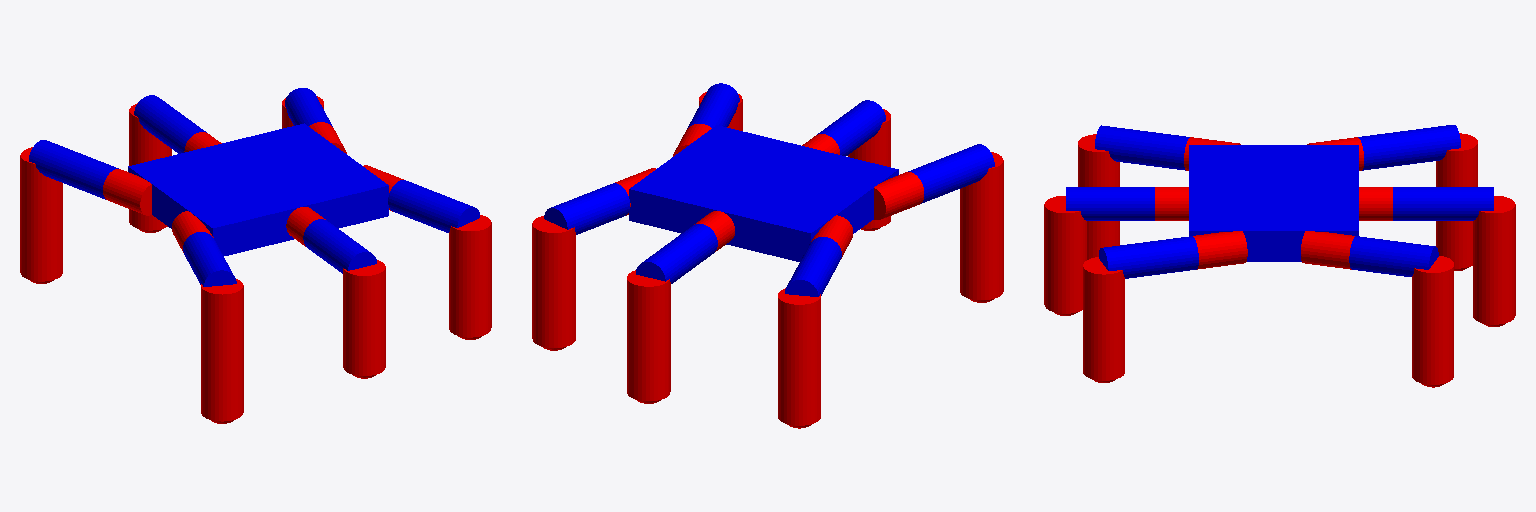
--- What the picture shows (computed from the rendered views, not written in the file) ---
The picture shows the robot from 3 angles, left to right: view 1: azimuth 30°, elevation 25°; view 2: azimuth 150°, elevation 25°; view 3: azimuth 270°, elevation 25°; orthographic projection.
Robot: pexod — 19 links, 18 joints (18 revolute); root link base_link; default pose: all joints at 0.
Visible links, largest first — view 1: base_link, leg_5_3, leg_3_3, leg_0_3, leg_4_3, leg_3_2, leg_0_2, leg_4_2, leg_1_2, leg_5_2, leg_1_3, leg_0_1 (+3 smaller); view 2: base_link, leg_0_3, leg_5_3, leg_2_3, leg_1_3, leg_1_2, leg_5_2, leg_2_2, leg_0_2, leg_4_2, leg_5_1, leg_3_2 (+3 smaller); view 3: base_link, leg_1_3, leg_2_3, leg_3_3, leg_4_3, leg_0_3, leg_1_2, leg_0_2, leg_3_2, leg_5_2, leg_4_2, leg_2_2 (+5 smaller).
Link boxes in pixels (bbox=[...]): base_link: bbox=[128, 123, 388, 255]; leg_5_3: bbox=[201, 279, 243, 423]; leg_3_3: bbox=[449, 215, 491, 339]; leg_0_3: bbox=[20, 147, 62, 283]; leg_4_3: bbox=[343, 260, 385, 378]; leg_3_2: bbox=[388, 180, 479, 232]; leg_0_2: bbox=[29, 140, 118, 199]; leg_4_2: bbox=[303, 219, 376, 273]; leg_1_2: bbox=[134, 95, 206, 153]; leg_5_2: bbox=[183, 232, 236, 286]; leg_1_3: bbox=[129, 103, 171, 232]; leg_0_1: bbox=[103, 169, 151, 215]; base_link: bbox=[629, 125, 898, 261]; leg_0_3: bbox=[778, 288, 820, 428]; leg_5_3: bbox=[960, 152, 1003, 302]; leg_2_3: bbox=[532, 216, 575, 350]; leg_1_3: bbox=[627, 270, 670, 403]; leg_1_2: bbox=[636, 224, 717, 283]; leg_5_2: bbox=[908, 144, 994, 203]; leg_2_2: bbox=[544, 183, 629, 234]; leg_0_2: bbox=[785, 237, 841, 296]; leg_4_2: bbox=[817, 100, 885, 155]; leg_5_1: bbox=[874, 172, 923, 219]; leg_3_2: bbox=[687, 83, 739, 128]; base_link: bbox=[1189, 145, 1358, 261]; leg_1_3: bbox=[1473, 196, 1515, 326]; leg_2_3: bbox=[1412, 256, 1453, 387]; leg_3_3: bbox=[1083, 257, 1124, 382]; leg_4_3: bbox=[1044, 196, 1086, 315]; leg_0_3: bbox=[1436, 133, 1477, 270]; leg_1_2: bbox=[1393, 187, 1493, 220]; leg_0_2: bbox=[1358, 125, 1460, 170]; leg_3_2: bbox=[1099, 236, 1198, 278]; leg_5_2: bbox=[1095, 125, 1189, 170]; leg_4_2: bbox=[1066, 187, 1154, 220]; leg_2_2: bbox=[1349, 236, 1438, 276].
Size in the robot's own frame: 0.3934 by 0.5542 by 0.1977 metres.
Geometry: primitives only (box / cylinder / sphere), no mesh files.

The robot description file, URDF, robot "pexod":
<?xml version="1.0" ?>
<!-- =================================================================================== -->
<!-- |    This document was autogenerated by xacro from pexod.xacro                    | -->
<!-- |    EDITING THIS FILE BY HAND IS NOT RECOMMENDED                                 | -->
<!-- =================================================================================== -->
<robot name="pexod" xmlns:xacro="http://www.ros.org/wiki/xacro">
  <!-- <xacro:include filename="$(find pexod_description)/urdf/pexod_control.xacro" /> -->
  <!-- MATERIALS -->
  <material name="Blue">
    <color rgba="0 0 1 1"/>
  </material>
  <material name="Red">
    <color rgba="1 0 0 1"/>
  </material>
  <material name="Green">
    <color rgba="0 1 0 1"/>
  </material>
  <material name="Yellow">
    <color rgba="1 1 0 1"/>
  </material>
  <material name="LightGrey">
    <color rgba="0.6 0.6 0.6 1.0"/>
  </material>
  <!-- END OF MATERIALS -->
  <!-- XACRO MACROS FOR VISUALS AND COLLISIONS -->
  <!-- END OF XACRO MACROS -->
  <!-- TORSO -->
  <link name="base_link">
    <visual>
      <origin rpy="0 0 0" xyz="0 0 0"/>
      <geometry>
        <box size="0.24 0.2 0.04"/>
      </geometry>
      <material name="Blue"/>
    </visual>
    <collision>
      <origin rpy="0 0 0" xyz="0 0 0"/>
      <geometry>
        <box size="0.24 0.2 0.04"/>
      </geometry>
    </collision>
    <inertial>
      <!-- CENTER OF MASS -->
      <origin rpy="0 0 0" xyz="0 0 0"/>
      <mass value="1.031"/>
      <!-- box inertia: 1/12*m(y^2+z^2), ... -->
      <inertia ixx="0.00357413333333" ixy="0" ixz="0" iyy="0.00508626666667" iyz="0" izz="0.00838546666667"/>
    </inertial>
  </link>
  <!-- XACRO MACRO FOR LEGS LINKS/JOINTS -->
  <!-- END OF LEG LINKS/JOINTS -->
  <joint name="body_leg_2" type="revolute">
    <parent link="base_link"/>
    <child link="leg_2_1"/>
    <limit effort="30.0" lower="-1.57079632679" upper="1.57079632679" velocity="7.0"/>
    <origin rpy="0 0 -0.3" xyz="0.11 0.04 0"/>
    <!-- <xacro:if value="${index == 5 or index == 4 or index == 3}">
                <axis xyz="0 0 1"/>
            </xacro:if>
            <xacro:if value="${index == 2 or index == 1 or index == 0}"> -->
    <axis xyz="0 0 1"/>
    <!-- </xacro:if> -->
    <dynamics damping="0.0"/>
  </joint>
  <link name="leg_2_1">
    <visual>
      <origin rpy="1.57079632679 0 0" xyz="0.01 0.03 0"/>
      <geometry>
        <cylinder length="0.06" radius="0.02"/>
      </geometry>
      <material name="Red"/>
    </visual>
    <collision>
      <origin rpy="1.57079632679 0 0" xyz="0.01 0.03 0"/>
      <geometry>
        <box size="0.02 0.02 0.06"/>
      </geometry>
    </collision>
    <inertial>
      <!-- CENTER OF MASS -->
      <origin rpy="1.57079632679 0 0" xyz="0.01 0.03 0"/>
      <mass value="0.02"/>
      <!-- box inertia: 1/12*m(y^2+z^2), ... -->
      <inertia ixx="6.66666666667e-06" ixy="0" ixz="0" iyy="6.66666666667e-06" iyz="0" izz="1.33333333333e-06"/>
    </inertial>
  </link>
  <joint name="leg_2_1_2" type="revolute">
    <parent link="leg_2_1"/>
    <child link="leg_2_2"/>
    <limit effort="30.0" lower="-0.78539816339" upper="0.78539816339" velocity="7.0"/>
    <origin rpy="0 0 0" xyz="0 0.06 0"/>
    <axis xyz="1 0 0"/>
    <dynamics damping="0.0"/>
  </joint>
  <link name="leg_2_2">
    <visual>
      <origin rpy="1.57079632679 0 0" xyz="0.01 0.0488894796392 0"/>
      <geometry>
        <cylinder length="0.0977789592784" radius="0.02"/>
      </geometry>
      <material name="Blue"/>
    </visual>
    <collision>
      <origin rpy="1.57079632679 0 0" xyz="0.01 0.0488894796392 0"/>
      <geometry>
        <box size="0.02 0.02 0.0977789592784"/>
      </geometry>
    </collision>
    <inertial>
      <!-- CENTER OF MASS -->
      <origin rpy="1.57079632679 0 0" xyz="0.01 0.0488894796392 0"/>
      <mass value="0.184"/>
      <!-- box inertia: 1/12*m(y^2+z^2), ... -->
      <inertia ixx="0.000152731114789" ixy="0" ixz="0" iyy="0.000152731114789" iyz="0" izz="1.22666666667e-05"/>
    </inertial>
  </link>
  <joint name="leg_2_2_3" type="revolute">
    <parent link="leg_2_2"/>
    <child link="leg_2_3"/>
    <limit effort="30.0" lower="-0.78539816339" upper="0.78539816339" velocity="7.0"/>
    <origin rpy="-1.57079632679 0 0" xyz="0 0.0977789592784 0"/>
    <axis xyz="-1 0 0"/>
    <dynamics damping="0.0"/>
  </joint>
  <link name="leg_2_3">
    <visual>
      <origin rpy="1.57079632679 0 0" xyz="0.0125 0.072589265158 0"/>
      <geometry>
        <cylinder length="0.145178530316" radius="0.025"/>
      </geometry>
      <material name="Red"/>
    </visual>
    <visual>
      <origin rpy="1.57079632679 0 0" xyz="0.0125 0.132678530316 0"/>
      <geometry>
        <sphere radius="0.025"/>
      </geometry>
      <material name="Red"/>
    </visual>
    <collision>
      <origin rpy="1.57079632679 0 0" xyz="0.0125 0.072589265158 0"/>
      <geometry>
        <box size="0.025 0.025 0.145178530316"/>
      </geometry>
    </collision>
    <collision>
      <origin rpy="1.57079632679 0 0" xyz="0.0125 0.132678530316 0"/>
      <geometry>
        <sphere radius="0.025"/>
      </geometry>
      <material name="Red"/>
    </collision>
    <inertial>
      <!-- CENTER OF MASS -->
      <origin rpy="1.57079632679 0 0" xyz="0.0125 0.072589265158 0"/>
      <mass value="0.04"/>
      <!-- box inertia: 1/12*m(y^2+z^2), ... -->
      <inertia ixx="7.23393522157e-05" ixy="0" ixz="0" iyy="7.23393522157e-05" iyz="0" izz="4.16666666667e-06"/>
    </inertial>
  </link>
  <joint name="body_leg_3" type="revolute">
    <parent link="base_link"/>
    <child link="leg_3_1"/>
    <limit effort="30.0" lower="-1.57079632679" upper="1.57079632679" velocity="7.0"/>
    <origin rpy="0 0 0.3" xyz="0.11 -0.04 0"/>
    <!-- <xacro:if value="${index == 5 or index == 4 or index == 3}">
                <axis xyz="0 0 1"/>
            </xacro:if>
            <xacro:if value="${index == 2 or index == 1 or index == 0}"> -->
    <axis xyz="0 0 1"/>
    <!-- </xacro:if> -->
    <dynamics damping="0.0"/>
  </joint>
  <link name="leg_3_1">
    <visual>
      <origin rpy="1.57079632679 0 0" xyz="0.01 -0.03 0"/>
      <geometry>
        <cylinder length="0.06" radius="0.02"/>
      </geometry>
      <material name="Red"/>
    </visual>
    <collision>
      <origin rpy="1.57079632679 0 0" xyz="0.01 -0.03 0"/>
      <geometry>
        <box size="0.02 0.02 0.06"/>
      </geometry>
    </collision>
    <inertial>
      <!-- CENTER OF MASS -->
      <origin rpy="1.57079632679 0 0" xyz="0.01 -0.03 0"/>
      <mass value="0.02"/>
      <!-- box inertia: 1/12*m(y^2+z^2), ... -->
      <inertia ixx="6.66666666667e-06" ixy="0" ixz="0" iyy="6.66666666667e-06" iyz="0" izz="1.33333333333e-06"/>
    </inertial>
  </link>
  <joint name="leg_3_1_2" type="revolute">
    <parent link="leg_3_1"/>
    <child link="leg_3_2"/>
    <limit effort="30.0" lower="-0.78539816339" upper="0.78539816339" velocity="7.0"/>
    <origin rpy="0 0 0" xyz="0 -0.06 0"/>
    <axis xyz="-1 0 0"/>
    <dynamics damping="0.0"/>
  </joint>
  <link name="leg_3_2">
    <visual>
      <origin rpy="1.57079632679 0 0" xyz="0.01 -0.05566289453 0"/>
      <geometry>
        <cylinder length="0.11132578906" radius="0.02"/>
      </geometry>
      <material name="Blue"/>
    </visual>
    <collision>
      <origin rpy="1.57079632679 0 0" xyz="0.01 -0.05566289453 0"/>
      <geometry>
        <box size="0.02 0.02 0.11132578906"/>
      </geometry>
    </collision>
    <inertial>
      <!-- CENTER OF MASS -->
      <origin rpy="1.57079632679 0 0" xyz="0.01 -0.05566289453 0"/>
      <mass value="0.184"/>
      <!-- box inertia: 1/12*m(y^2+z^2), ... -->
      <inertia ixx="0.000196165946751" ixy="0" ixz="0" iyy="0.000196165946751" iyz="0" izz="1.22666666667e-05"/>
    </inertial>
  </link>
  <joint name="leg_3_2_3" type="revolute">
    <parent link="leg_3_2"/>
    <child link="leg_3_3"/>
    <limit effort="30.0" lower="-0.78539816339" upper="0.78539816339" velocity="7.0"/>
    <origin rpy="1.57079632679 0 0" xyz="0 -0.11132578906 0"/>
    <axis xyz="1 0 0"/>
    <dynamics damping="0.0"/>
  </joint>
  <link name="leg_3_3">
    <visual>
      <origin rpy="1.57079632679 0 0" xyz="0.0125 -0.068984625898 0"/>
      <geometry>
        <cylinder length="0.137969251796" radius="0.025"/>
      </geometry>
      <material name="Red"/>
    </visual>
    <visual>
      <origin rpy="1.57079632679 0 0" xyz="0.0125 -0.125469251796 0"/>
      <geometry>
        <sphere radius="0.025"/>
      </geometry>
      <material name="Red"/>
    </visual>
    <collision>
      <origin rpy="1.57079632679 0 0" xyz="0.0125 -0.068984625898 0"/>
      <geometry>
        <box size="0.025 0.025 0.137969251796"/>
      </geometry>
    </collision>
    <collision>
      <origin rpy="1.57079632679 0 0" xyz="0.0125 -0.125469251796 0"/>
      <geometry>
        <sphere radius="0.025"/>
      </geometry>
      <material name="Red"/>
    </collision>
    <inertial>
      <!-- CENTER OF MASS -->
      <origin rpy="1.57079632679 0 0" xyz="0.0125 -0.068984625898 0"/>
      <mass value="0.04"/>
      <!-- box inertia: 1/12*m(y^2+z^2), ... -->
      <inertia ixx="6.55350481372e-05" ixy="0" ixz="0" iyy="6.55350481372e-05" iyz="0" izz="4.16666666667e-06"/>
    </inertial>
  </link>
  <joint name="body_leg_0" type="revolute">
    <parent link="base_link"/>
    <child link="leg_0_1"/>
    <limit effort="30.0" lower="-1.57079632679" upper="1.57079632679" velocity="7.0"/>
    <origin rpy="0 0 0.3" xyz="-0.13 0.04 0"/>
    <!-- <xacro:if value="${index == 5 or index == 4 or index == 3}">
                <axis xyz="0 0 1"/>
            </xacro:if>
            <xacro:if value="${index == 2 or index == 1 or index == 0}"> -->
    <axis xyz="0 0 1"/>
    <!-- </xacro:if> -->
    <dynamics damping="0.0"/>
  </joint>
  <link name="leg_0_1">
    <visual>
      <origin rpy="1.57079632679 0 0" xyz="0.01 0.03 0"/>
      <geometry>
        <cylinder length="0.06" radius="0.02"/>
      </geometry>
      <material name="Red"/>
    </visual>
    <collision>
      <origin rpy="1.57079632679 0 0" xyz="0.01 0.03 0"/>
      <geometry>
        <box size="0.02 0.02 0.06"/>
      </geometry>
    </collision>
    <inertial>
      <!-- CENTER OF MASS -->
      <origin rpy="1.57079632679 0 0" xyz="0.01 0.03 0"/>
      <mass value="0.02"/>
      <!-- box inertia: 1/12*m(y^2+z^2), ... -->
      <inertia ixx="6.66666666667e-06" ixy="0" ixz="0" iyy="6.66666666667e-06" iyz="0" izz="1.33333333333e-06"/>
    </inertial>
  </link>
  <joint name="leg_0_1_2" type="revolute">
    <parent link="leg_0_1"/>
    <child link="leg_0_2"/>
    <limit effort="30.0" lower="-0.78539816339" upper="0.78539816339" velocity="7.0"/>
    <origin rpy="0 0 0" xyz="0 0.06 0"/>
    <axis xyz="1 0 0"/>
    <dynamics damping="0.0"/>
  </joint>
  <link name="leg_0_2">
    <visual>
      <origin rpy="1.57079632679 0 0" xyz="0.01 0.0595970638 0"/>
      <geometry>
        <cylinder length="0.1191941276" radius="0.02"/>
      </geometry>
      <material name="Blue"/>
    </visual>
    <collision>
      <origin rpy="1.57079632679 0 0" xyz="0.01 0.0595970638 0"/>
      <geometry>
        <box size="0.02 0.02 0.1191941276"/>
      </geometry>
    </collision>
    <inertial>
      <!-- CENTER OF MASS -->
      <origin rpy="1.57079632679 0 0" xyz="0.01 0.0595970638 0"/>
      <mass value="0.184"/>
      <!-- box inertia: 1/12*m(y^2+z^2), ... -->
      <inertia ixx="0.000223977680833" ixy="0" ixz="0" iyy="0.000223977680833" iyz="0" izz="1.22666666667e-05"/>
    </inertial>
  </link>
  <joint name="leg_0_2_3" type="revolute">
    <parent link="leg_0_2"/>
    <child link="leg_0_3"/>
    <limit effort="30.0" lower="-0.78539816339" upper="0.78539816339" velocity="7.0"/>
    <origin rpy="-1.57079632679 0 0" xyz="0 0.1191941276 0"/>
    <axis xyz="-1 0 0"/>
    <dynamics damping="0.0"/>
  </joint>
  <link name="leg_0_3">
    <visual>
      <origin rpy="1.57079632679 0 0" xyz="0.0125 0.0763287002285 0"/>
      <geometry>
        <cylinder length="0.152657400457" radius="0.025"/>
      </geometry>
      <material name="Red"/>
    </visual>
    <visual>
      <origin rpy="1.57079632679 0 0" xyz="0.0125 0.140157400457 0"/>
      <geometry>
        <sphere radius="0.025"/>
      </geometry>
      <material name="Red"/>
    </visual>
    <collision>
      <origin rpy="1.57079632679 0 0" xyz="0.0125 0.0763287002285 0"/>
      <geometry>
        <box size="0.025 0.025 0.152657400457"/>
      </geometry>
    </collision>
    <collision>
      <origin rpy="1.57079632679 0 0" xyz="0.0125 0.140157400457 0"/>
      <geometry>
        <sphere radius="0.025"/>
      </geometry>
      <material name="Red"/>
    </collision>
    <inertial>
      <!-- CENTER OF MASS -->
      <origin rpy="1.57079632679 0 0" xyz="0.0125 0.0763287002285 0"/>
      <mass value="0.04"/>
      <!-- box inertia: 1/12*m(y^2+z^2), ... -->
      <inertia ixx="7.97642730476e-05" ixy="0" ixz="0" iyy="7.97642730476e-05" iyz="0" izz="4.16666666667e-06"/>
    </inertial>
  </link>
  <joint name="body_leg_5" type="revolute">
    <parent link="base_link"/>
    <child link="leg_5_1"/>
    <limit effort="30.0" lower="-1.57079632679" upper="1.57079632679" velocity="7.0"/>
    <origin rpy="0 0 -0.3" xyz="-0.13 -0.04 0"/>
    <!-- <xacro:if value="${index == 5 or index == 4 or index == 3}">
                <axis xyz="0 0 1"/>
            </xacro:if>
            <xacro:if value="${index == 2 or index == 1 or index == 0}"> -->
    <axis xyz="0 0 1"/>
    <!-- </xacro:if> -->
    <dynamics damping="0.0"/>
  </joint>
  <link name="leg_5_1">
    <visual>
      <origin rpy="1.57079632679 0 0" xyz="0.01 -0.03 0"/>
      <geometry>
        <cylinder length="0.06" radius="0.02"/>
      </geometry>
      <material name="Red"/>
    </visual>
    <collision>
      <origin rpy="1.57079632679 0 0" xyz="0.01 -0.03 0"/>
      <geometry>
        <box size="0.02 0.02 0.06"/>
      </geometry>
    </collision>
    <inertial>
      <!-- CENTER OF MASS -->
      <origin rpy="1.57079632679 0 0" xyz="0.01 -0.03 0"/>
      <mass value="0.02"/>
      <!-- box inertia: 1/12*m(y^2+z^2), ... -->
      <inertia ixx="6.66666666667e-06" ixy="0" ixz="0" iyy="6.66666666667e-06" iyz="0" izz="1.33333333333e-06"/>
    </inertial>
  </link>
  <joint name="leg_5_1_2" type="revolute">
    <parent link="leg_5_1"/>
    <child link="leg_5_2"/>
    <limit effort="30.0" lower="-0.78539816339" upper="0.78539816339" velocity="7.0"/>
    <origin rpy="0 0 0" xyz="0 -0.06 0"/>
    <axis xyz="-1 0 0"/>
    <dynamics damping="0.0"/>
  </joint>
  <link name="leg_5_2">
    <visual>
      <origin rpy="1.57079632679 0 0" xyz="0.01 -0.054976649933 0"/>
      <geometry>
        <cylinder length="0.109953299866" radius="0.02"/>
      </geometry>
      <material name="Blue"/>
    </visual>
    <collision>
      <origin rpy="1.57079632679 0 0" xyz="0.01 -0.054976649933 0"/>
      <geometry>
        <box size="0.02 0.02 0.109953299866"/>
      </geometry>
    </collision>
    <inertial>
      <!-- CENTER OF MASS -->
      <origin rpy="1.57079632679 0 0" xyz="0.01 -0.054976649933 0"/>
      <mass value="0.184"/>
      <!-- box inertia: 1/12*m(y^2+z^2), ... -->
      <inertia ixx="0.000191509164988" ixy="0" ixz="0" iyy="0.000191509164988" iyz="0" izz="1.22666666667e-05"/>
    </inertial>
  </link>
  <joint name="leg_5_2_3" type="revolute">
    <parent link="leg_5_2"/>
    <child link="leg_5_3"/>
    <limit effort="30.0" lower="-0.78539816339" upper="0.78539816339" velocity="7.0"/>
    <origin rpy="1.57079632679 0 0" xyz="0 -0.109953299866 0"/>
    <axis xyz="1 0 0"/>
    <dynamics damping="0.0"/>
  </joint>
  <link name="leg_5_3">
    <visual>
      <origin rpy="1.57079632679 0 0" xyz="0.0125 -0.082579415632 0"/>
      <geometry>
        <cylinder length="0.165158831264" radius="0.025"/>
      </geometry>
      <material name="Red"/>
    </visual>
    <visual>
      <origin rpy="1.57079632679 0 0" xyz="0.0125 -0.152658831264 0"/>
      <geometry>
        <sphere radius="0.025"/>
      </geometry>
      <material name="Red"/>
    </visual>
    <collision>
      <origin rpy="1.57079632679 0 0" xyz="0.0125 -0.082579415632 0"/>
      <geometry>
        <box size="0.025 0.025 0.165158831264"/>
      </geometry>
    </collision>
    <collision>
      <origin rpy="1.57079632679 0 0" xyz="0.0125 -0.152658831264 0"/>
      <geometry>
        <sphere radius="0.025"/>
      </geometry>
      <material name="Red"/>
    </collision>
    <inertial>
      <!-- CENTER OF MASS -->
      <origin rpy="1.57079632679 0 0" xyz="0.0125 -0.082579415632 0"/>
      <mass value="0.04"/>
      <!-- box inertia: 1/12*m(y^2+z^2), ... -->
      <inertia ixx="9.3008131815e-05" ixy="0" ixz="0" iyy="9.3008131815e-05" iyz="0" izz="4.16666666667e-06"/>
    </inertial>
  </link>
  <joint name="body_leg_1" type="revolute">
    <parent link="base_link"/>
    <child link="leg_1_1"/>
    <limit effort="30.0" lower="-1.57079632679" upper="1.57079632679" velocity="7.0"/>
    <origin rpy="0 0 0" xyz="-0.01 0.08 0"/>
    <!-- <xacro:if value="${index == 5 or index == 4 or index == 3}">
                <axis xyz="0 0 1"/>
            </xacro:if>
            <xacro:if value="${index == 2 or index == 1 or index == 0}"> -->
    <axis xyz="0 0 1"/>
    <!-- </xacro:if> -->
    <dynamics damping="0.0"/>
  </joint>
  <link name="leg_1_1">
    <visual>
      <origin rpy="1.57079632679 0 0" xyz="0.01 0.03 0"/>
      <geometry>
        <cylinder length="0.06" radius="0.02"/>
      </geometry>
      <material name="Red"/>
    </visual>
    <collision>
      <origin rpy="1.57079632679 0 0" xyz="0.01 0.03 0"/>
      <geometry>
        <box size="0.02 0.02 0.06"/>
      </geometry>
    </collision>
    <inertial>
      <!-- CENTER OF MASS -->
      <origin rpy="1.57079632679 0 0" xyz="0.01 0.03 0"/>
      <mass value="0.02"/>
      <!-- box inertia: 1/12*m(y^2+z^2), ... -->
      <inertia ixx="6.66666666667e-06" ixy="0" ixz="0" iyy="6.66666666667e-06" iyz="0" izz="1.33333333333e-06"/>
    </inertial>
  </link>
  <joint name="leg_1_1_2" type="revolute">
    <parent link="leg_1_1"/>
    <child link="leg_1_2"/>
    <limit effort="30.0" lower="-0.78539816339" upper="0.78539816339" velocity="7.0"/>
    <origin rpy="0 0 0" xyz="0 0.06 0"/>
    <axis xyz="1 0 0"/>
    <dynamics damping="0.0"/>
  </joint>
  <link name="leg_1_2">
    <visual>
      <origin rpy="1.57079632679 0 0" xyz="0.01 0.0594820184865 0"/>
      <geometry>
        <cylinder length="0.118964036973" radius="0.02"/>
      </geometry>
      <material name="Blue"/>
    </visual>
    <collision>
      <origin rpy="1.57079632679 0 0" xyz="0.01 0.0594820184865 0"/>
      <geometry>
        <box size="0.02 0.02 0.118964036973"/>
      </geometry>
    </collision>
    <inertial>
      <!-- CENTER OF MASS -->
      <origin rpy="1.57079632679 0 0" xyz="0.01 0.0594820184865 0"/>
      <mass value="0.184"/>
      <!-- box inertia: 1/12*m(y^2+z^2), ... -->
      <inertia ixx="0.000223137445425" ixy="0" ixz="0" iyy="0.000223137445425" iyz="0" izz="1.22666666667e-05"/>
    </inertial>
  </link>
  <joint name="leg_1_2_3" type="revolute">
    <parent link="leg_1_2"/>
    <child link="leg_1_3"/>
    <limit effort="30.0" lower="-0.78539816339" upper="0.78539816339" velocity="7.0"/>
    <origin rpy="-1.57079632679 0 0" xyz="0 0.118964036973 0"/>
    <axis xyz="-1 0 0"/>
    <dynamics damping="0.0"/>
  </joint>
  <link name="leg_1_3">
    <visual>
      <origin rpy="1.57079632679 0 0" xyz="0.0125 0.0722500906895 0"/>
      <geometry>
        <cylinder length="0.144500181379" radius="0.025"/>
      </geometry>
      <material name="Red"/>
    </visual>
    <visual>
      <origin rpy="1.57079632679 0 0" xyz="0.0125 0.132000181379 0"/>
      <geometry>
        <sphere radius="0.025"/>
      </geometry>
      <material name="Red"/>
    </visual>
    <collision>
      <origin rpy="1.57079632679 0 0" xyz="0.0125 0.0722500906895 0"/>
      <geometry>
        <box size="0.025 0.025 0.144500181379"/>
      </geometry>
    </collision>
    <collision>
      <origin rpy="1.57079632679 0 0" xyz="0.0125 0.132000181379 0"/>
      <geometry>
        <sphere radius="0.025"/>
      </geometry>
      <material name="Red"/>
    </collision>
    <inertial>
      <!-- CENTER OF MASS -->
      <origin rpy="1.57079632679 0 0" xyz="0.0125 0.0722500906895 0"/>
      <mass value="0.04"/>
      <!-- box inertia: 1/12*m(y^2+z^2), ... -->
      <inertia ixx="7.16843413952e-05" ixy="0" ixz="0" iyy="7.16843413952e-05" iyz="0" izz="4.16666666667e-06"/>
    </inertial>
  </link>
  <joint name="body_leg_4" type="revolute">
    <parent link="base_link"/>
    <child link="leg_4_1"/>
    <limit effort="30.0" lower="-1.57079632679" upper="1.57079632679" velocity="7.0"/>
    <origin rpy="0 0 0" xyz="-0.01 -0.08 0"/>
    <!-- <xacro:if value="${index == 5 or index == 4 or index == 3}">
                <axis xyz="0 0 1"/>
            </xacro:if>
            <xacro:if value="${index == 2 or index == 1 or index == 0}"> -->
    <axis xyz="0 0 1"/>
    <!-- </xacro:if> -->
    <dynamics damping="0.0"/>
  </joint>
  <link name="leg_4_1">
    <visual>
      <origin rpy="1.57079632679 0 0" xyz="0.01 -0.03 0"/>
      <geometry>
        <cylinder length="0.06" radius="0.02"/>
      </geometry>
      <material name="Red"/>
    </visual>
    <collision>
      <origin rpy="1.57079632679 0 0" xyz="0.01 -0.03 0"/>
      <geometry>
        <box size="0.02 0.02 0.06"/>
      </geometry>
    </collision>
    <inertial>
      <!-- CENTER OF MASS -->
      <origin rpy="1.57079632679 0 0" xyz="0.01 -0.03 0"/>
      <mass value="0.02"/>
      <!-- box inertia: 1/12*m(y^2+z^2), ... -->
      <inertia ixx="6.66666666667e-06" ixy="0" ixz="0" iyy="6.66666666667e-06" iyz="0" izz="1.33333333333e-06"/>
    </inertial>
  </link>
  <joint name="leg_4_1_2" type="revolute">
    <parent link="leg_4_1"/>
    <child link="leg_4_2"/>
    <limit effort="30.0" lower="-0.78539816339" upper="0.78539816339" velocity="7.0"/>
    <origin rpy="0 0 0" xyz="0 -0.06 0"/>
    <axis xyz="-1 0 0"/>
    <dynamics damping="0.0"/>
  </joint>
  <link name="leg_4_2">
    <visual>
      <origin rpy="1.57079632679 0 0" xyz="0.01 -0.0526052838895 0"/>
      <geometry>
        <cylinder length="0.105210567779" radius="0.02"/>
      </geometry>
      <material name="Blue"/>
    </visual>
    <collision>
      <origin rpy="1.57079632679 0 0" xyz="0.01 -0.0526052838895 0"/>
      <geometry>
        <box size="0.02 0.02 0.105210567779"/>
      </geometry>
    </collision>
    <inertial>
      <!-- CENTER OF MASS -->
      <origin rpy="1.57079632679 0 0" xyz="0.01 -0.0526052838895 0"/>
      <mass value="0.184"/>
      <!-- box inertia: 1/12*m(y^2+z^2), ... -->
      <inertia ixx="0.000175862041443" ixy="0" ixz="0" iyy="0.000175862041443" iyz="0" izz="1.22666666667e-05"/>
    </inertial>
  </link>
  <joint name="leg_4_2_3" type="revolute">
    <parent link="leg_4_2"/>
    <child link="leg_4_3"/>
    <limit effort="30.0" lower="-0.78539816339" upper="0.78539816339" velocity="7.0"/>
    <origin rpy="1.57079632679 0 0" xyz="0 -0.105210567779 0"/>
    <axis xyz="1 0 0"/>
    <dynamics damping="0.0"/>
  </joint>
  <link name="leg_4_3">
    <visual>
      <origin rpy="1.57079632679 0 0" xyz="0.0125 -0.06509285196 0"/>
      <geometry>
        <cylinder length="0.13018570392" radius="0.025"/>
      </geometry>
      <material name="Red"/>
    </visual>
    <visual>
      <origin rpy="1.57079632679 0 0" xyz="0.0125 -0.11768570392 0"/>
      <geometry>
        <sphere radius="0.025"/>
      </geometry>
      <material name="Red"/>
    </visual>
    <collision>
      <origin rpy="1.57079632679 0 0" xyz="0.0125 -0.06509285196 0"/>
      <geometry>
        <box size="0.025 0.025 0.13018570392"/>
      </geometry>
    </collision>
    <collision>
      <origin rpy="1.57079632679 0 0" xyz="0.0125 -0.11768570392 0"/>
      <geometry>
        <sphere radius="0.025"/>
      </geometry>
      <material name="Red"/>
    </collision>
    <inertial>
      <!-- CENTER OF MASS -->
      <origin rpy="1.57079632679 0 0" xyz="0.0125 -0.06509285196 0"/>
      <mass value="0.04"/>
      <!-- box inertia: 1/12*m(y^2+z^2), ... -->
      <inertia ixx="5.85777250172e-05" ixy="0" ixz="0" iyy="5.85777250172e-05" iyz="0" izz="4.16666666667e-06"/>
    </inertial>
  </link>
  <!-- END OF LEG LINKS/JOINTS -->
</robot>
